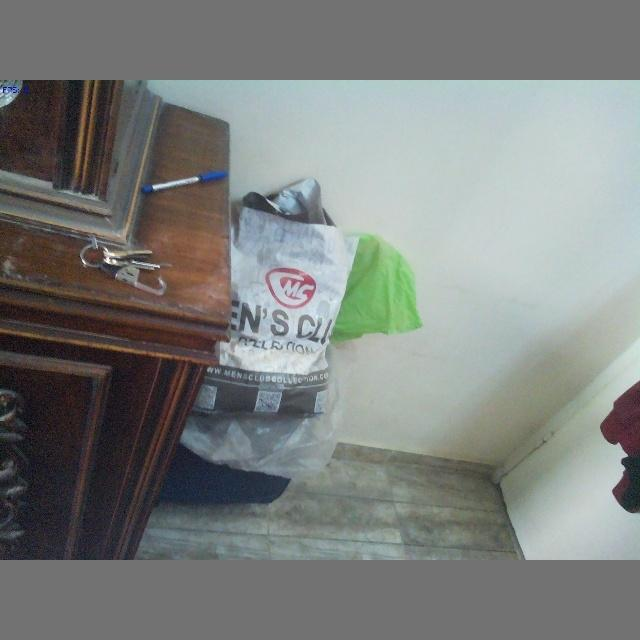Keys: (67, 225, 177, 302)
